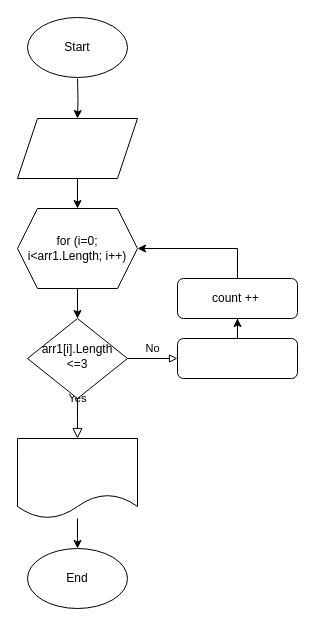
The diagram is 315 pixels wide and 626 high, and some of its shapes have lost their labels. The shapes that lost their labels are listed below. From the top down, each one's centre as x and y in pixels, then its label:
(x=77, y=148): string arr1 string arr2 count = 0
(x=237, y=358): arr2[count] = arr1[i]
(x=77, y=478): Print arr2
